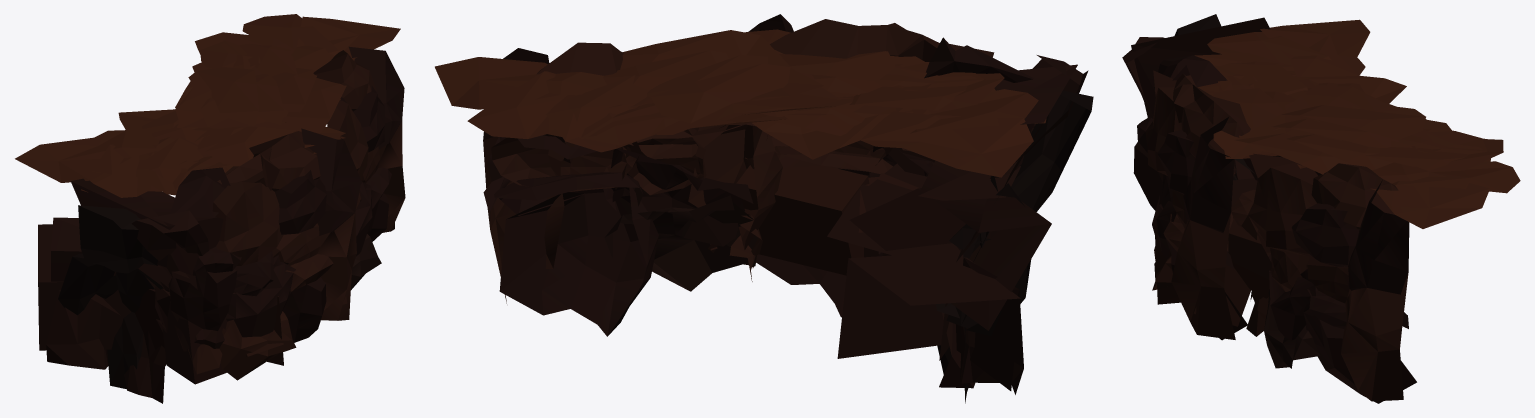
The model's file is Rock_Wall.fbx.
3 renders of one model, left to right at view 1: azimuth 30°, elevation 25°; view 2: azimuth 150°, elevation 25°; view 3: azimuth 270°, elevation 25°, orthographic. The views are drawn at different scales.
Visible parts, largest first — view 1: Wall_Rock; view 2: Wall_Rock; view 3: Wall_Rock.
Part boxes in pixels (x1,y1,x2,y2): Wall_Rock: (15,14,405,403); Wall_Rock: (435,14,1093,403); Wall_Rock: (1122,14,1520,403).
Bounding box in the file's own units: 42.99 × 23.87 × 33.04.
